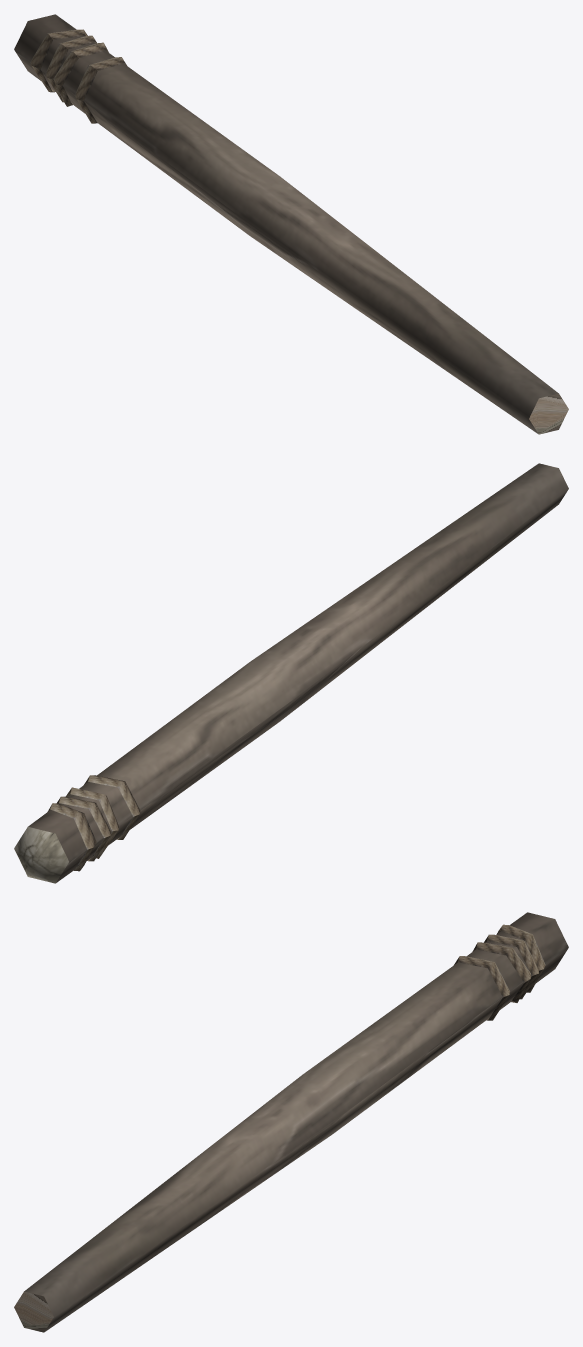
File: Clothing_Pole_A.fbx
3 views of the same model, one above another, from view 1: azimuth 30°, elevation 25°; view 2: azimuth 150°, elevation 25°; view 3: azimuth 330°, elevation 25° (orthographic).
Parts seen in each view (by area): view 1: Clothing_Pole_A; view 2: Clothing_Pole_A; view 3: Clothing_Pole_A.
Boxes of the visible parts, bbox=[...] form: Clothing_Pole_A: bbox=[14, 14, 568, 434]; Clothing_Pole_A: bbox=[14, 463, 568, 883]; Clothing_Pole_A: bbox=[14, 912, 568, 1332].
Bounding box in the file's own units: 0.1981 × 0.1794 × 2.79.
